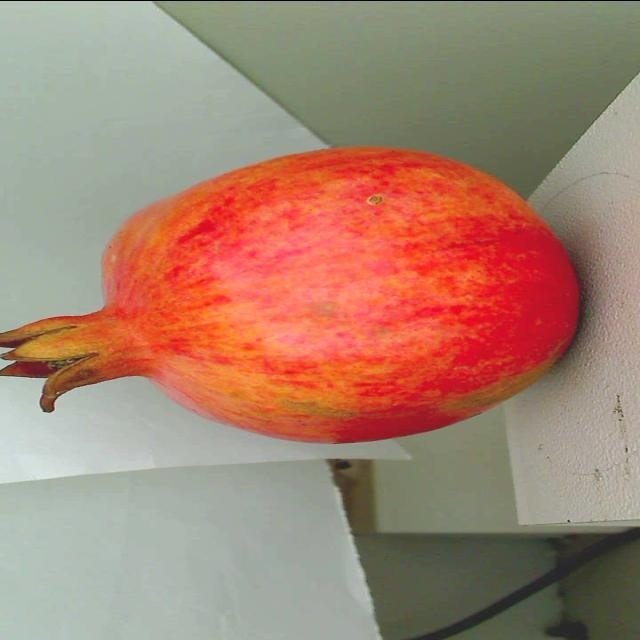pomegranate: (0, 138, 593, 454)
